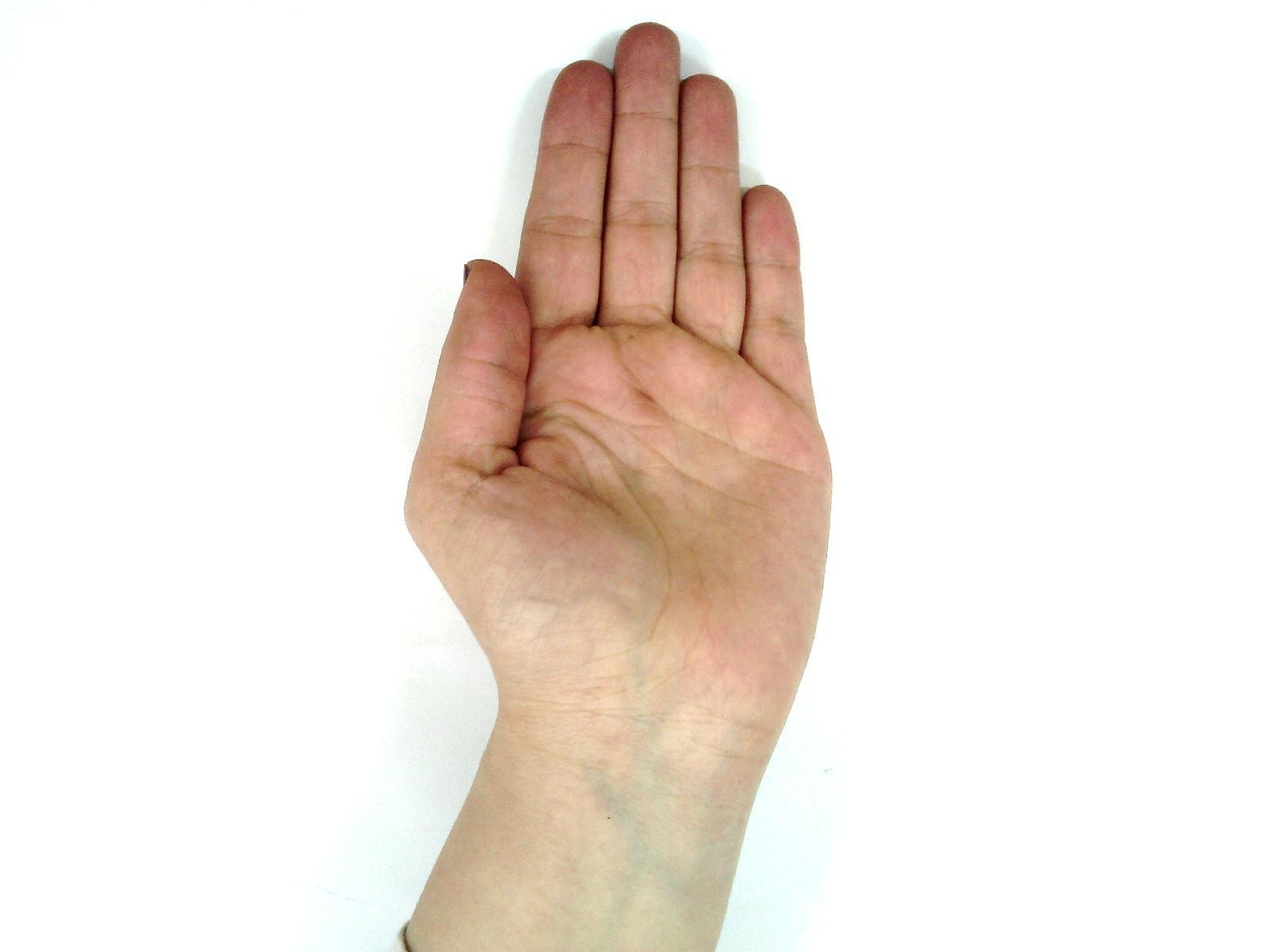open_palm: (402, 20, 833, 725)
